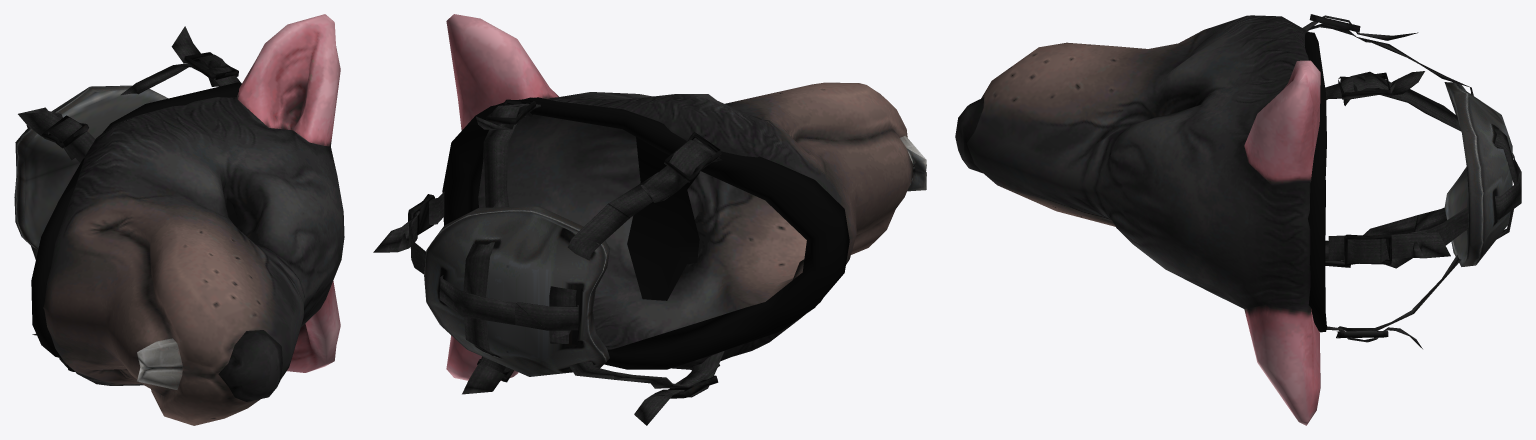
The model's file is M_RatMask.fbx.
The picture shows the model from 3 angles, left to right: view 1: azimuth 30°, elevation 25°; view 2: azimuth 150°, elevation 25°; view 3: azimuth 270°, elevation 25°; orthographic projection. The views are drawn at different scales.
Visible parts, largest first — view 1: RatMask.001; view 2: RatMask.001; view 3: RatMask.001.
Boxes of the visible parts, left/top/right/bottom form: RatMask.001: left=14, top=14, right=344, bottom=425; RatMask.001: left=373, top=14, right=926, bottom=425; RatMask.001: left=955, top=14, right=1521, bottom=425.
Bounding box in the file's own units: 0.1741 × 0.1717 × 0.2508.
